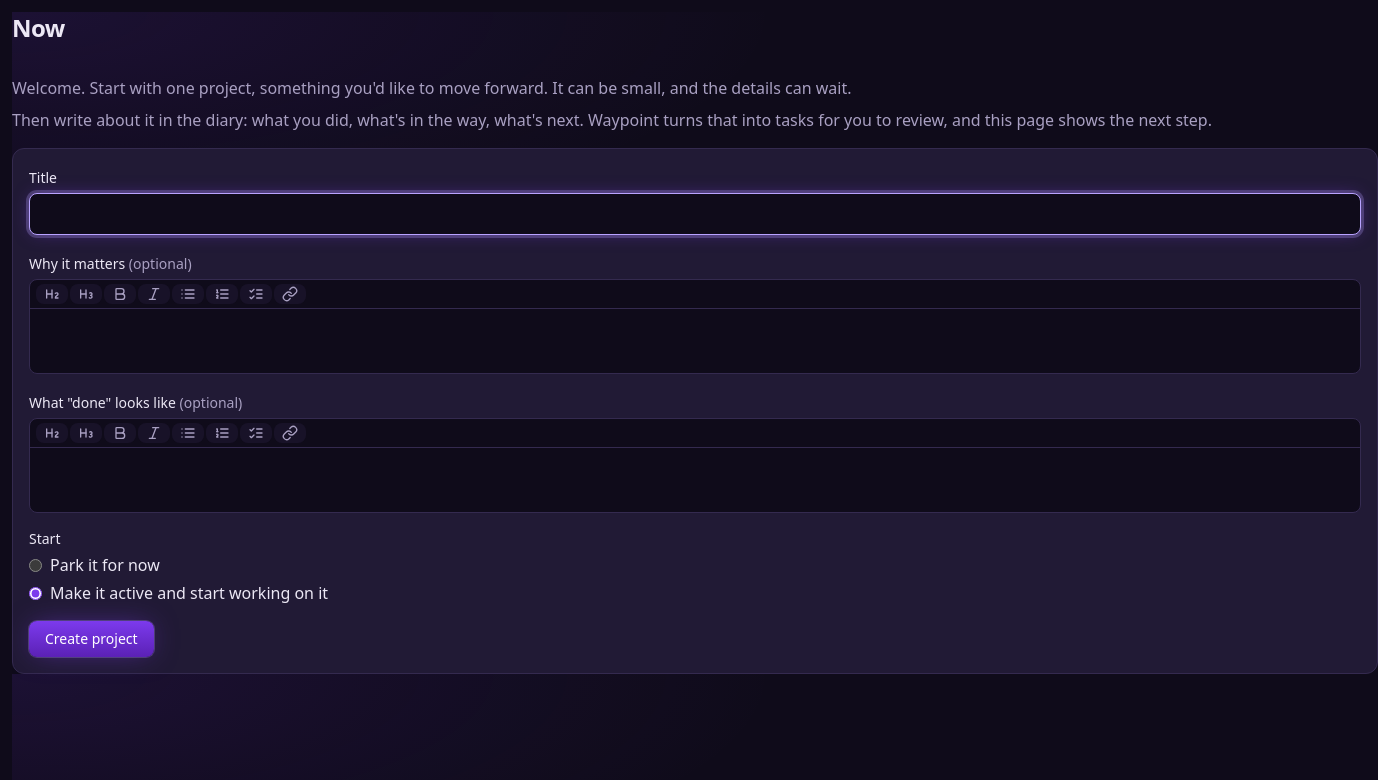
Test: Now on first run › shows the new project's briefing once it is created
In the field labelled "Title": (695, 214) [29, 193, 1361, 235], type "Garden shed"
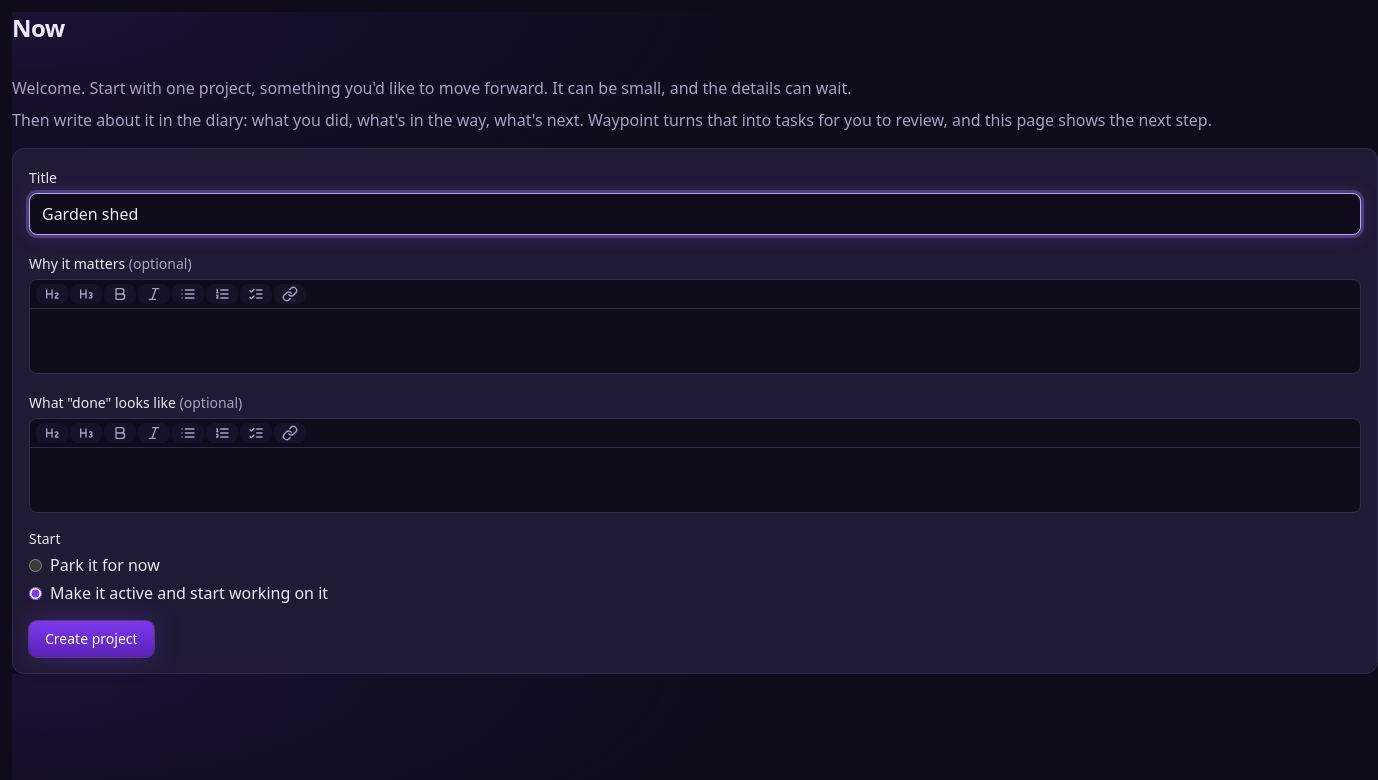
Submit the form
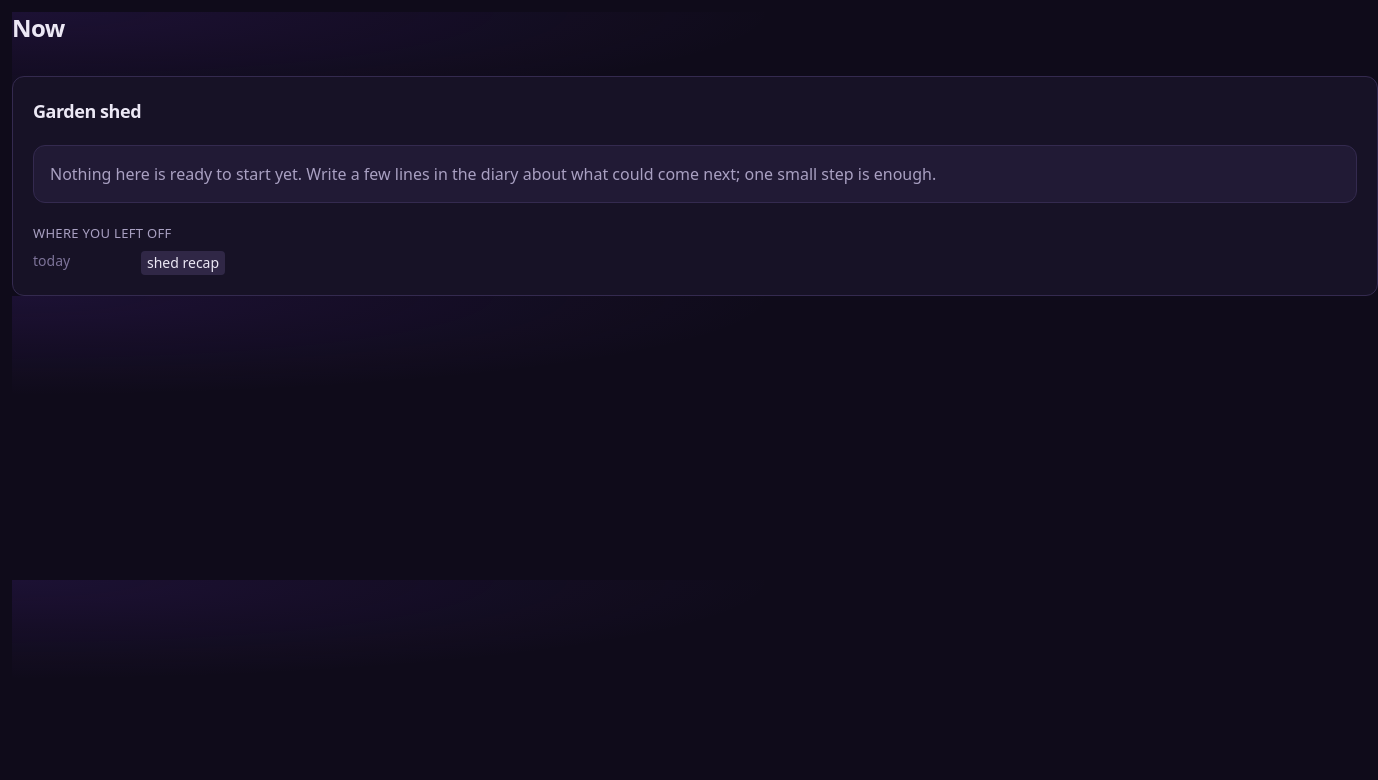
Check: the text "Welcome" is gone
Check: the text "Garden shed" is shown, box [33, 99, 141, 123]
Check: the text "shed recap" is shown, box [141, 251, 225, 275]
